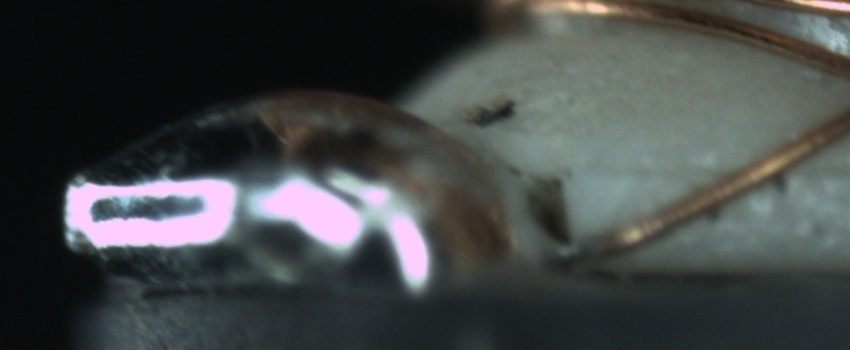DL: (580, 134, 839, 205)
